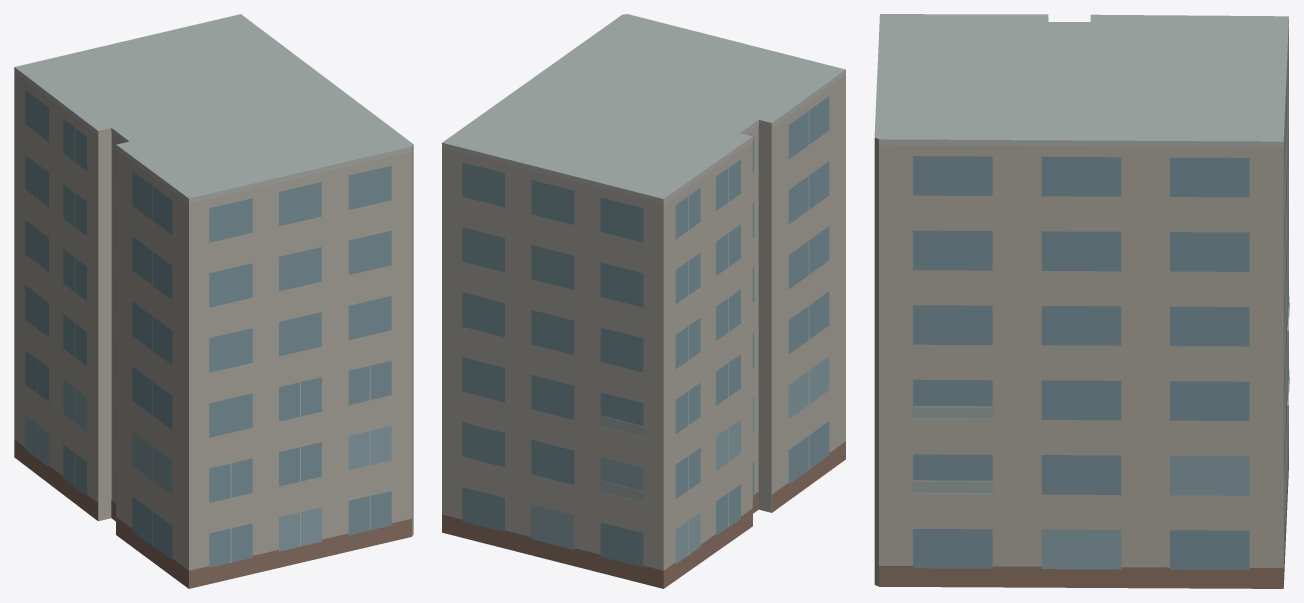
Rendered from survey-upis-32915879.glb.
The picture shows the model from 3 angles, left to right: view 1: azimuth 30°, elevation 25°; view 2: azimuth 150°, elevation 25°; view 3: azimuth 270°, elevation 25°; orthographic projection. The views are drawn at different scales.
Parts seen in each view (by area): view 1: survey-upis-32915879.tmp; view 2: survey-upis-32915879.tmp; view 3: survey-upis-32915879.tmp.
Boxes of the visible parts, left/top/right/bottom form: survey-upis-32915879.tmp: left=14, top=14, right=413, bottom=588; survey-upis-32915879.tmp: left=442, top=14, right=845, bottom=588; survey-upis-32915879.tmp: left=874, top=14, right=1289, bottom=588.
Size of the model in its own units: 11.2 by 18.3 by 15.39.
